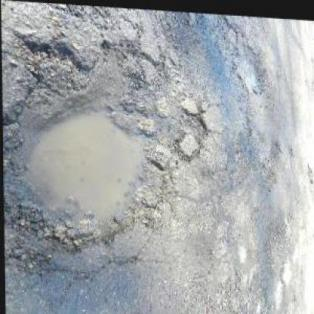Hueco: (2, 36, 179, 260), (179, 104, 209, 140)
